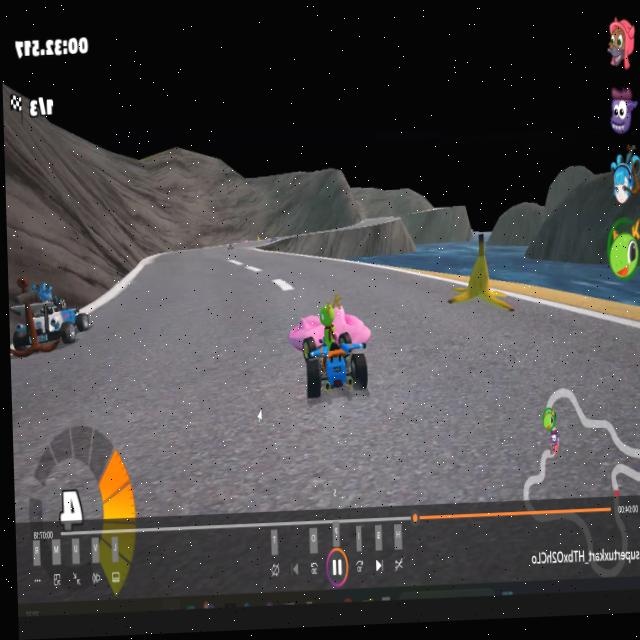enemy_kart: (9, 277, 89, 361)
obstacle: (446, 230, 508, 313)
player_kart: (299, 300, 368, 403)
track: (371, 331, 640, 505), (12, 399, 370, 529), (90, 295, 301, 410), (124, 258, 334, 301), (367, 273, 447, 341), (11, 365, 91, 408), (509, 299, 592, 333), (446, 307, 508, 337), (329, 266, 384, 297), (210, 235, 268, 260), (149, 243, 206, 265), (360, 212, 385, 227)
